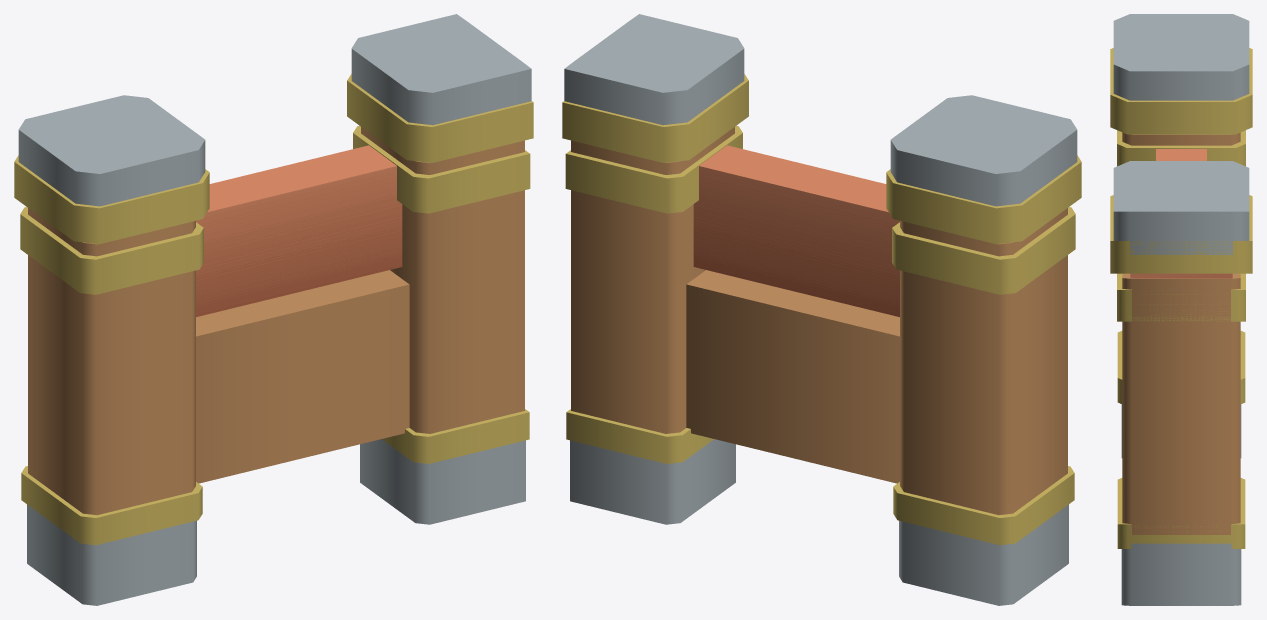
The model's file is end.glb.
3 views of the same model, side by side, from view 1: azimuth 30°, elevation 25°; view 2: azimuth 150°, elevation 25°; view 3: azimuth 270°, elevation 25° (orthographic). The views are drawn at different scales.
Parts seen in each view (by area): view 1: upgrade_wall_level_8, upgrade_wall_level_4, upgrade_wall_level_5, upgrade_wall_level_6, upgrade_wall_level_7, wood-structure-part.002, upgrade_wall_level_2; view 2: upgrade_wall_level_4, upgrade_wall_level_8, upgrade_wall_level_5, upgrade_wall_level_6, upgrade_wall_level_7, wood-structure-part.002, upgrade_wall_level_2; view 3: upgrade_wall_level_4, upgrade_wall_level_8, upgrade_wall_level_7, upgrade_wall_level_5, upgrade_wall_level_2, wood-structure-part.002.
Part boxes in pixels (left/top/right/bottom): upgrade_wall_level_8: left=14, top=50, right=533, bottom=605; upgrade_wall_level_4: left=28, top=127, right=524, bottom=514; upgrade_wall_level_5: left=20, top=125, right=530, bottom=514; upgrade_wall_level_6: left=196, top=270, right=409, bottom=483; upgrade_wall_level_7: left=18, top=14, right=531, bottom=206; wood-structure-part.002: left=196, top=145, right=402, bottom=316; upgrade_wall_level_2: left=27, top=439, right=525, bottom=605; upgrade_wall_level_4: left=571, top=127, right=1067, bottom=514; upgrade_wall_level_8: left=562, top=49, right=1081, bottom=605; upgrade_wall_level_5: left=565, top=125, right=1075, bottom=514; upgrade_wall_level_6: left=686, top=270, right=899, bottom=483; upgrade_wall_level_7: left=564, top=14, right=1077, bottom=206; wood-structure-part.002: left=693, top=145, right=899, bottom=316; upgrade_wall_level_2: left=570, top=439, right=1068, bottom=605; upgrade_wall_level_4: left=1122, top=132, right=1240, bottom=534; upgrade_wall_level_8: left=1110, top=48, right=1252, bottom=605; upgrade_wall_level_7: left=1113, top=14, right=1249, bottom=254; upgrade_wall_level_5: left=1117, top=130, right=1245, bottom=534; upgrade_wall_level_2: left=1121, top=404, right=1241, bottom=605; wood-structure-part.002: left=1130, top=149, right=1232, bottom=278.
Size of the model in its own units: 0.59 by 0.545 by 0.178.
Materials: 2 (1 with a texture image).
